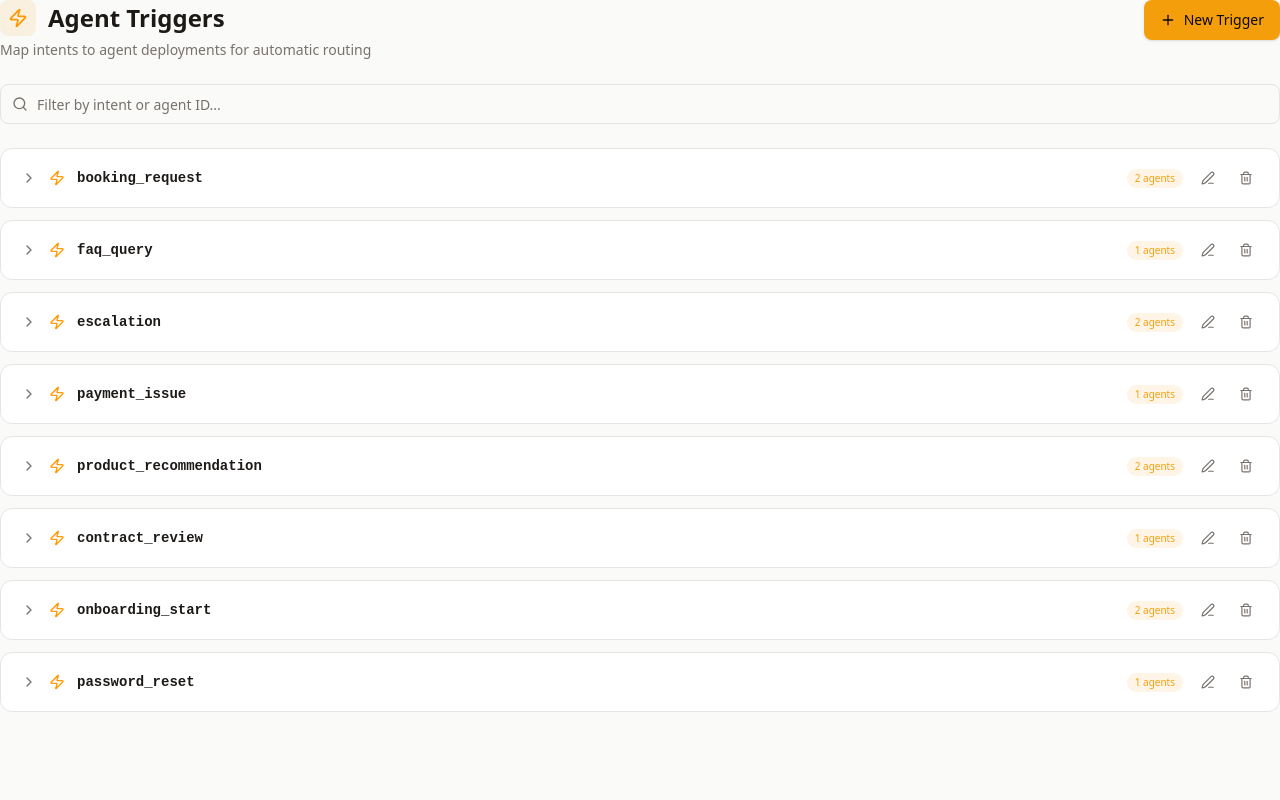
Test: TriggersPage › opens create dialog when create button is clicked
The width and height of the screenshot is (1280, 800).
Click the button with test id "create-trigger-btn" at (1212, 20), box [1144,0,1279,40]
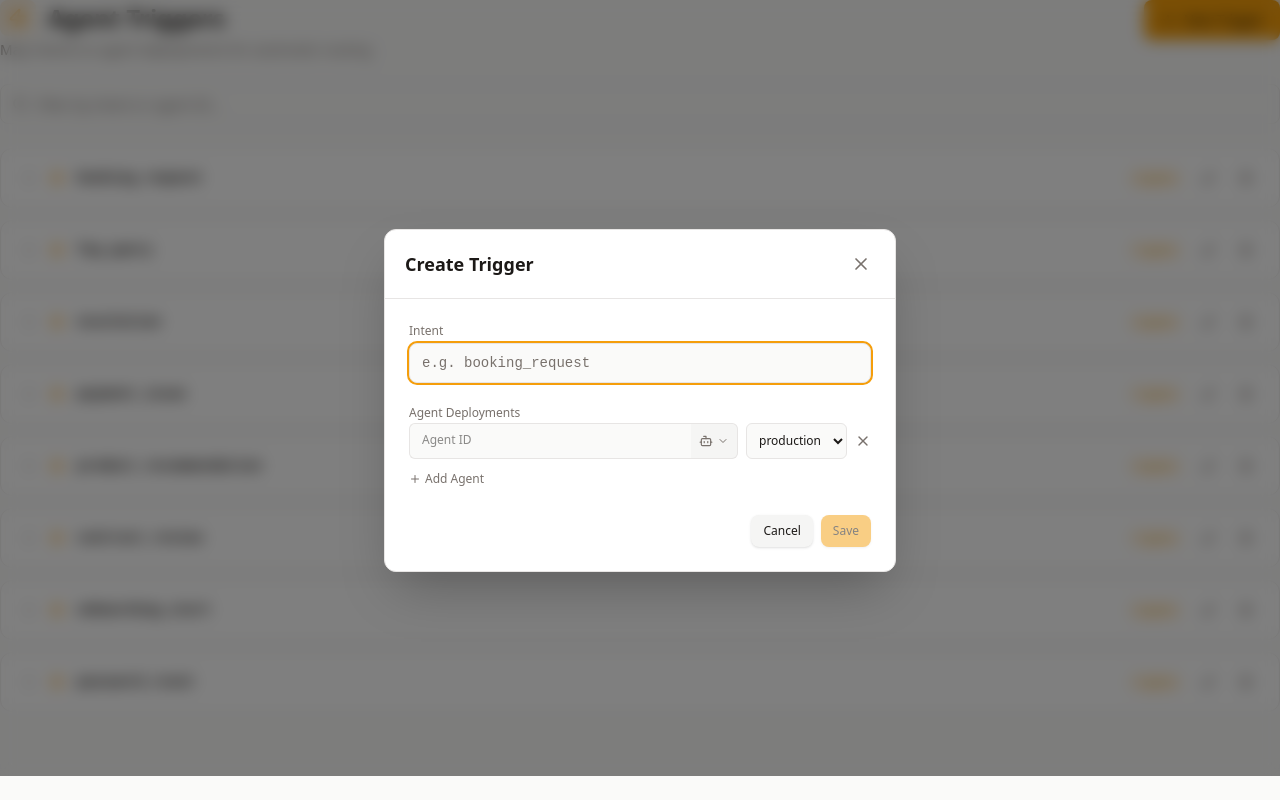
Now the dialog with test id "trigger-dialog" is shown, box [384,228,896,572]
Now the heading "Create Trigger" is shown, box [405,250,534,278]
